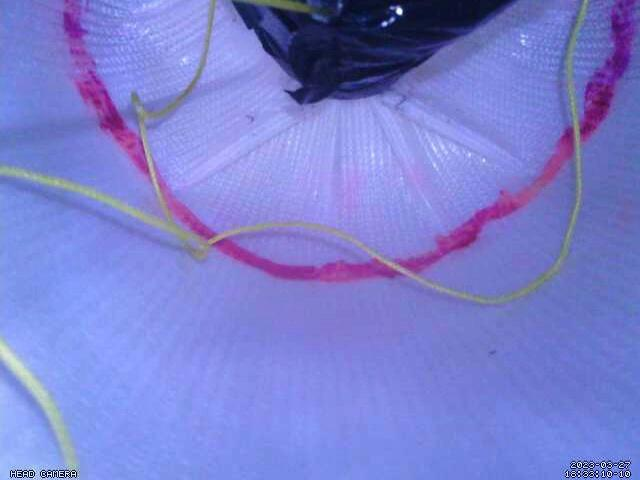head: (60, 0, 637, 283)
